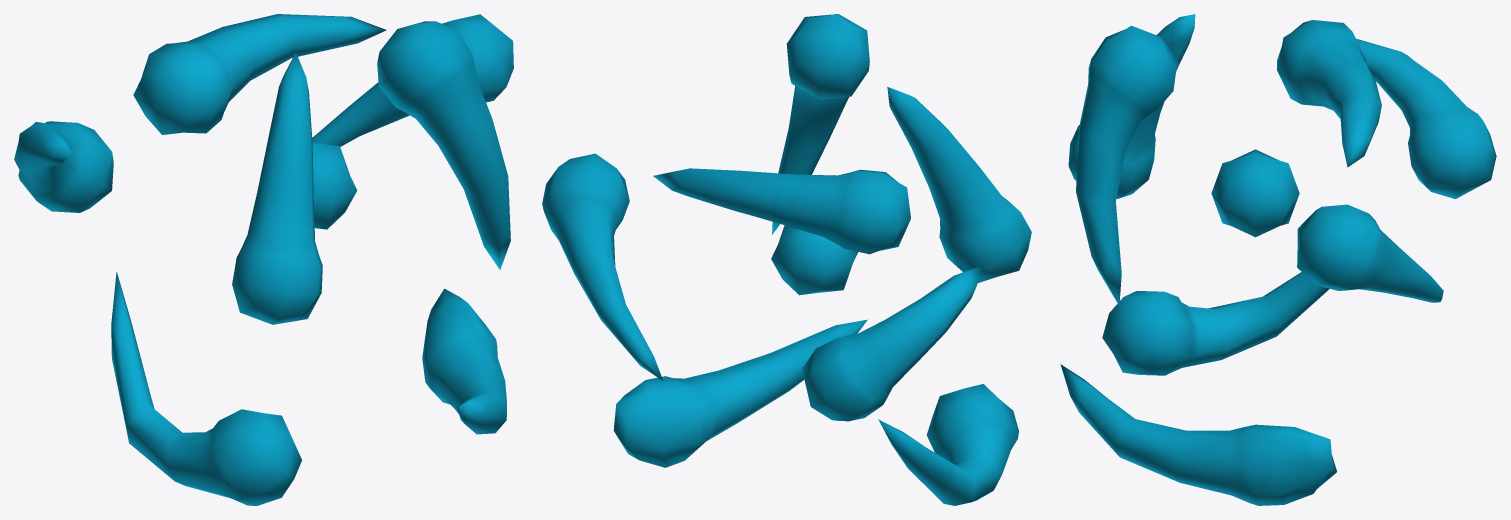
File: energy-star-1.obj
The picture shows the model from 3 angles, left to right: view 1: azimuth 30°, elevation 25°; view 2: azimuth 150°, elevation 25°; view 3: azimuth 270°, elevation 25°; orthographic projection. The views are drawn at different scales.
Visible parts, largest first — view 1: EnergyStar; view 2: EnergyStar; view 3: EnergyStar.
Boxes of the visible parts, left/top/right/bottom form: EnergyStar: left=14, top=14, right=513, bottom=505; EnergyStar: left=542, top=14, right=1031, bottom=505; EnergyStar: left=1060, top=14, right=1496, bottom=505.
Bounding box in the file's own units: 2.05 × 1.92 × 1.78.
